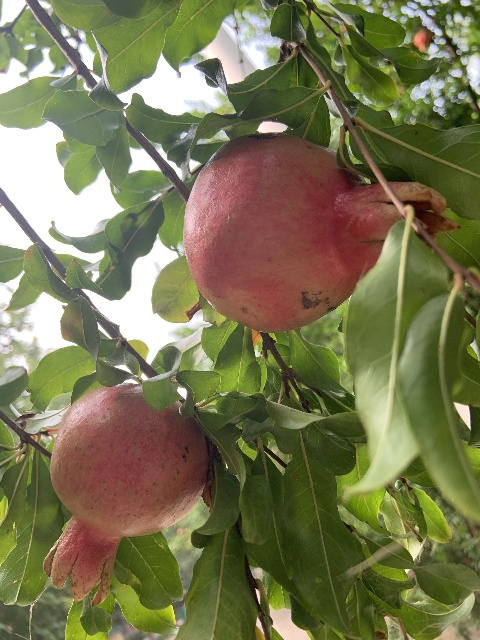ripe: (183, 132, 460, 332), (43, 382, 208, 605), (413, 29, 431, 52)
